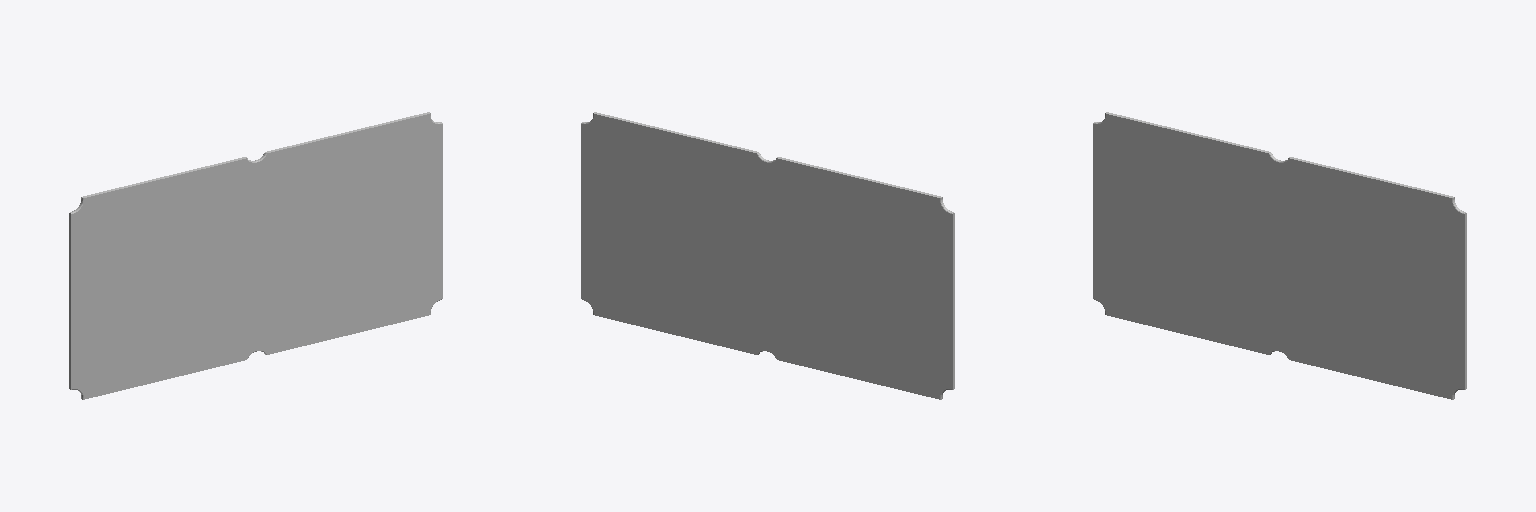
File: slate_n.obj
The picture shows the model from 3 angles: view 1: azimuth 30°, elevation 25°; view 2: azimuth 150°, elevation 25°; view 3: azimuth 330°, elevation 25°; orthographic projection.
Bounding box in the file's own units: 2.64 × 1.37 × 0.0254.